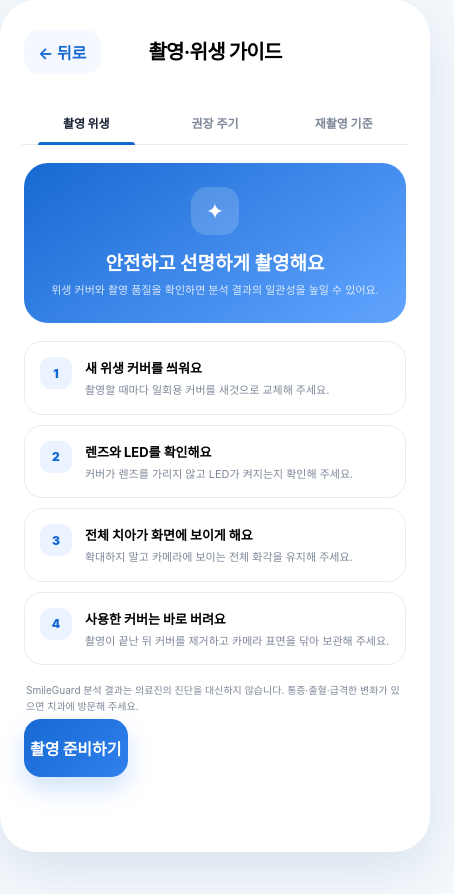
촬영 가이드 내용을 탭별로 나누어 표시한다
Expected: the heading "안전하고 선명하게 촬영해요" is shown, [106,252,324,275]
Expected: the text "연령별 권장 촬영 주기" is not shown
Click the tab "권장 주기". click: (215, 122)
box: [151,100,279,144]
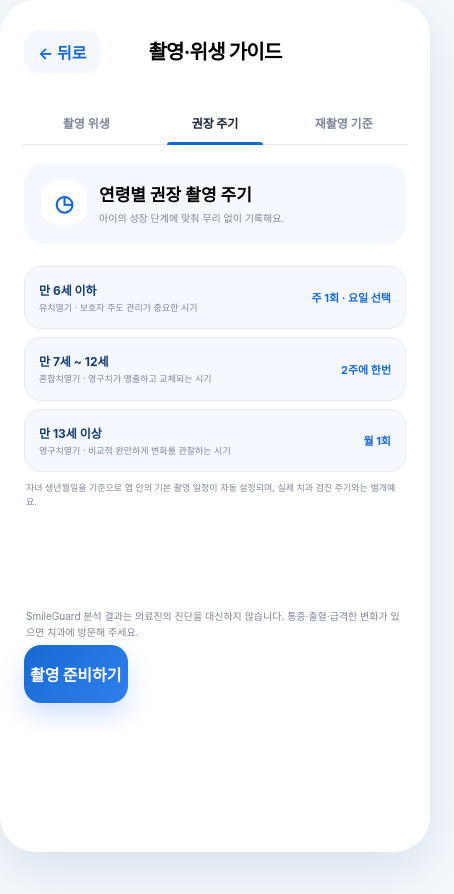
Expected: the heading "연령별 권장 촬영 주기" is shown, [99,185,252,205]
Expected: the heading "안전하고 선명하게 촬영해요" is gone
Click the tab "재촬영 기준". click: (344, 122)
box: [279,100,408,144]
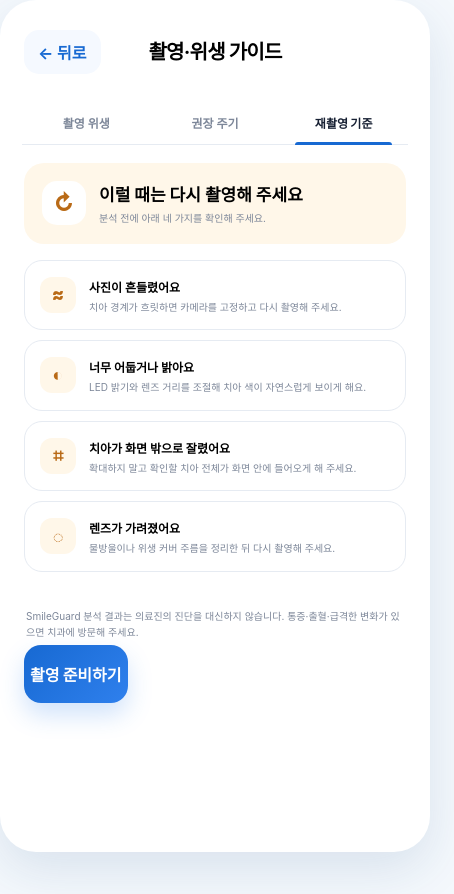
Expected: the heading "이럴 때는 다시 촬영해 주세요" is shown, [99,181,303,206]
Expected: the heading "연령별 권장 촬영 주기" is gone
